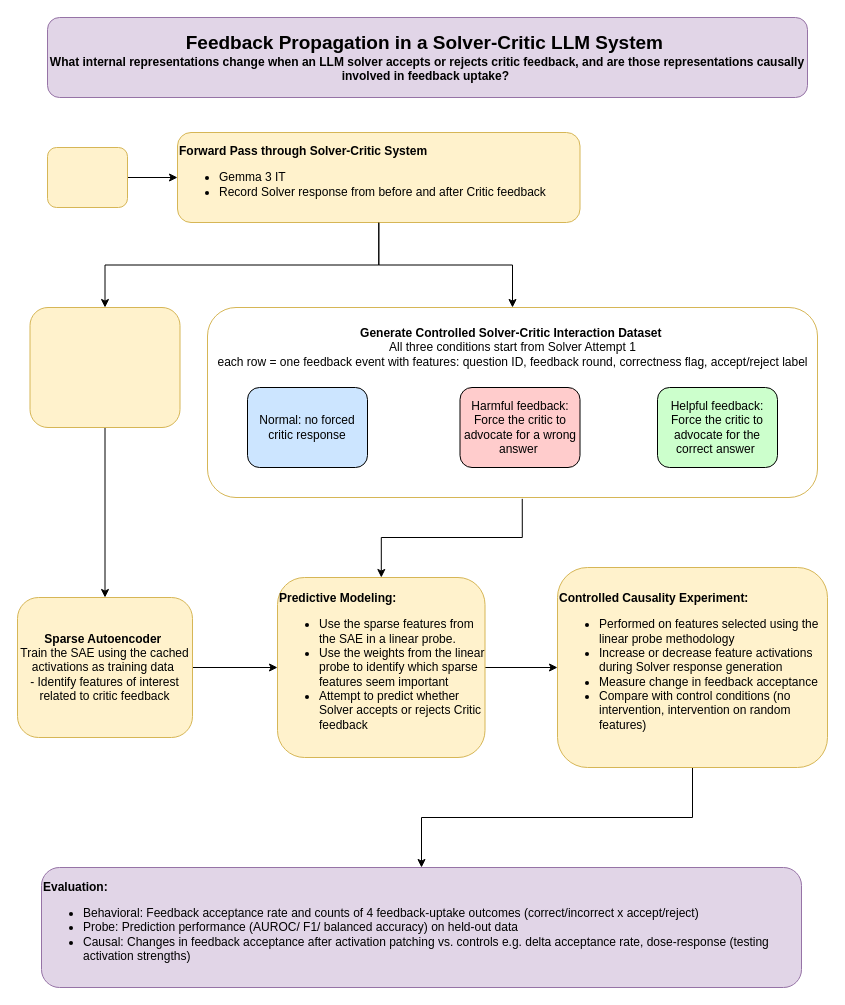
This 845x1005 diagram has some shape labels left out. Here are the shapes that lost their labels. From the top down, the box of each, then its label:
(46, 146, 128, 208): Input Data
(29, 306, 180, 428): Cache Solver activations from both responses and use as training data for SAE
